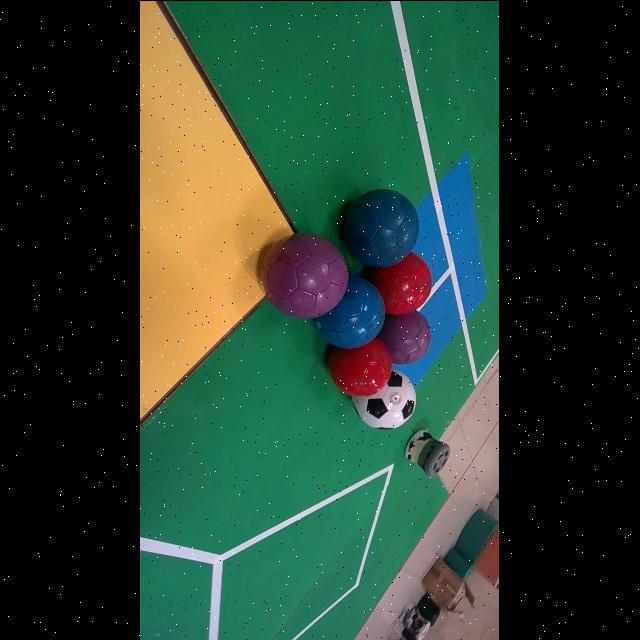B: (344, 188, 420, 267), (315, 276, 384, 348)
P: (260, 233, 349, 317), (379, 310, 432, 364)
R: (363, 252, 432, 315), (328, 337, 393, 396)
